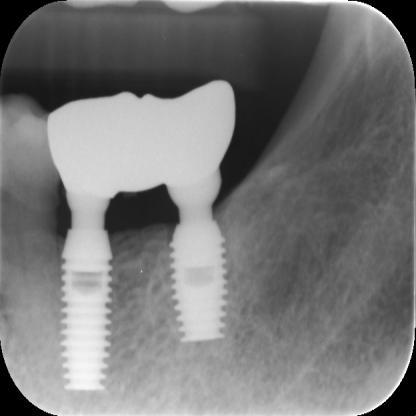Bicon: (164, 186, 230, 348), (58, 190, 108, 398)
